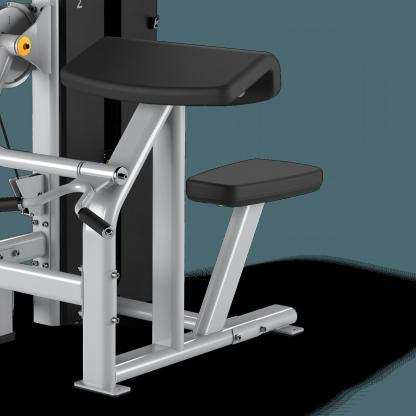arm curl machine: (0, 1, 324, 401)
